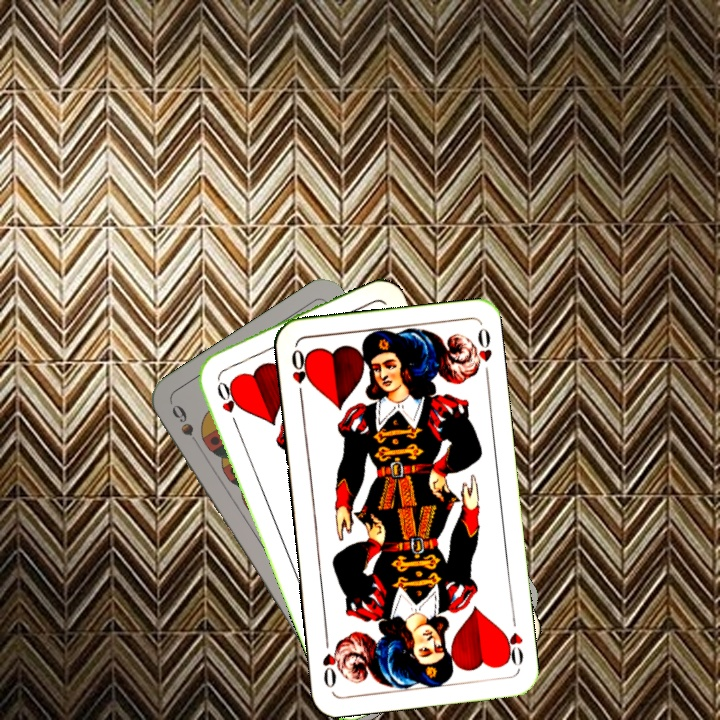HO: (212, 370, 244, 428), (287, 345, 312, 403), (499, 627, 526, 669)
S9: (167, 400, 205, 453)
